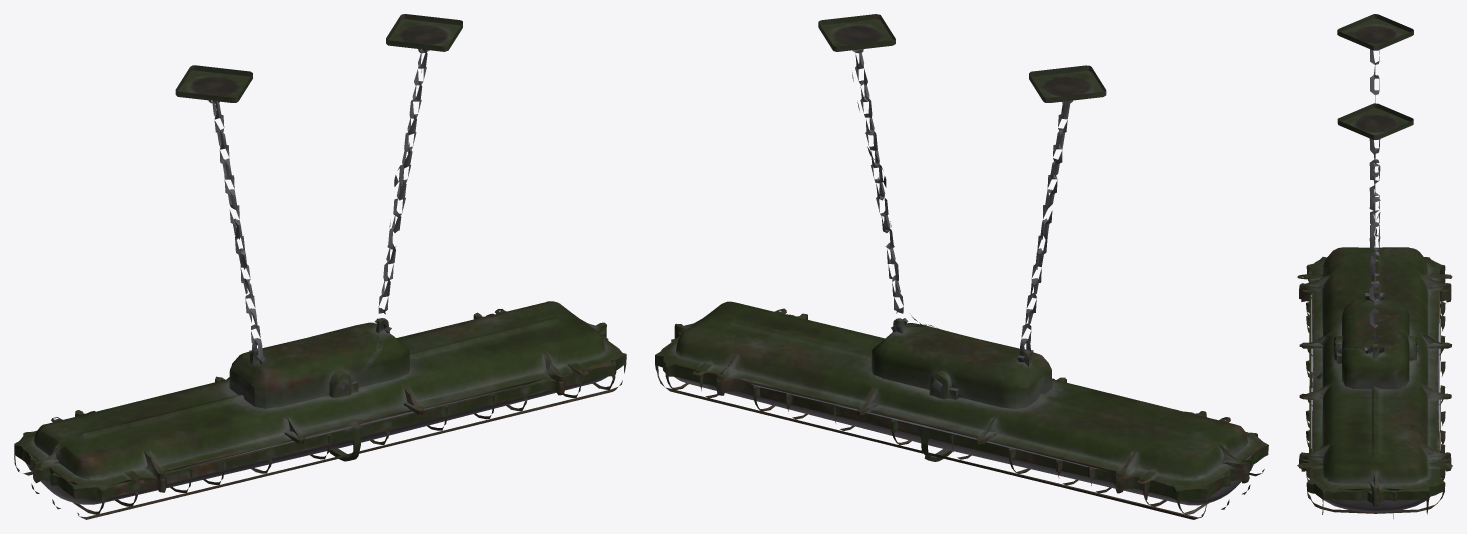
File: lamp_caged.glb
3 views of the same model, side by side, from view 1: azimuth 30°, elevation 25°; view 2: azimuth 150°, elevation 25°; view 3: azimuth 270°, elevation 25° (orthographic). The views are drawn at different scales.
Parts seen in each view (by area): view 1: mesh; view 2: mesh; view 3: mesh.
Part boxes in pixels (<box>): mesh: <box>14,14,626,519</box>; mesh: <box>655,14,1268,519</box>; mesh: <box>1297,14,1452,518</box>.
Bounding box in the file's own units: 1.16 × 0.7501 × 0.3137.
1 material, 1 textured.
